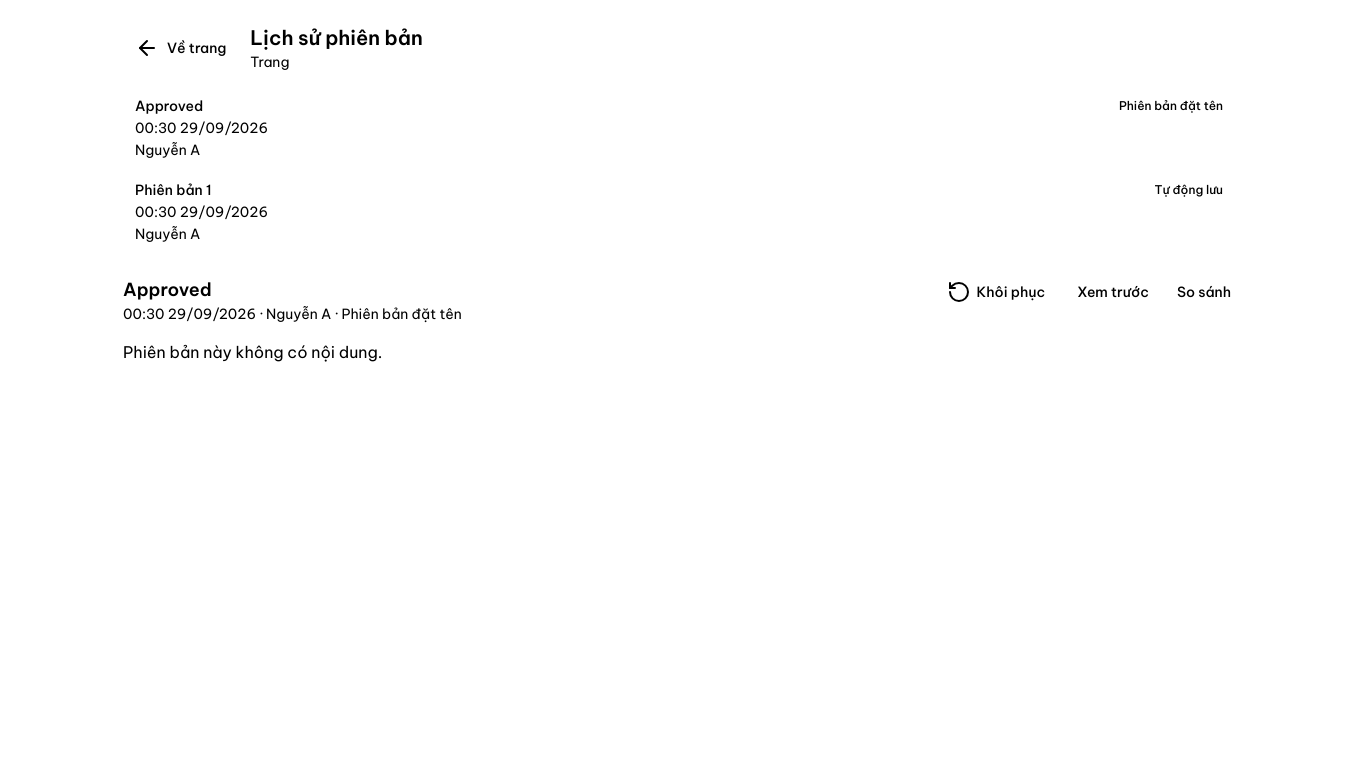
Test: restore from the history › keeps the dialog open and shows the translated error (viewer refused by collab)
What coordinates should you click on to do the following:
click the button "Khôi phục"
I would click on:
 (996, 292)
Its box is [935,276,1057,308].
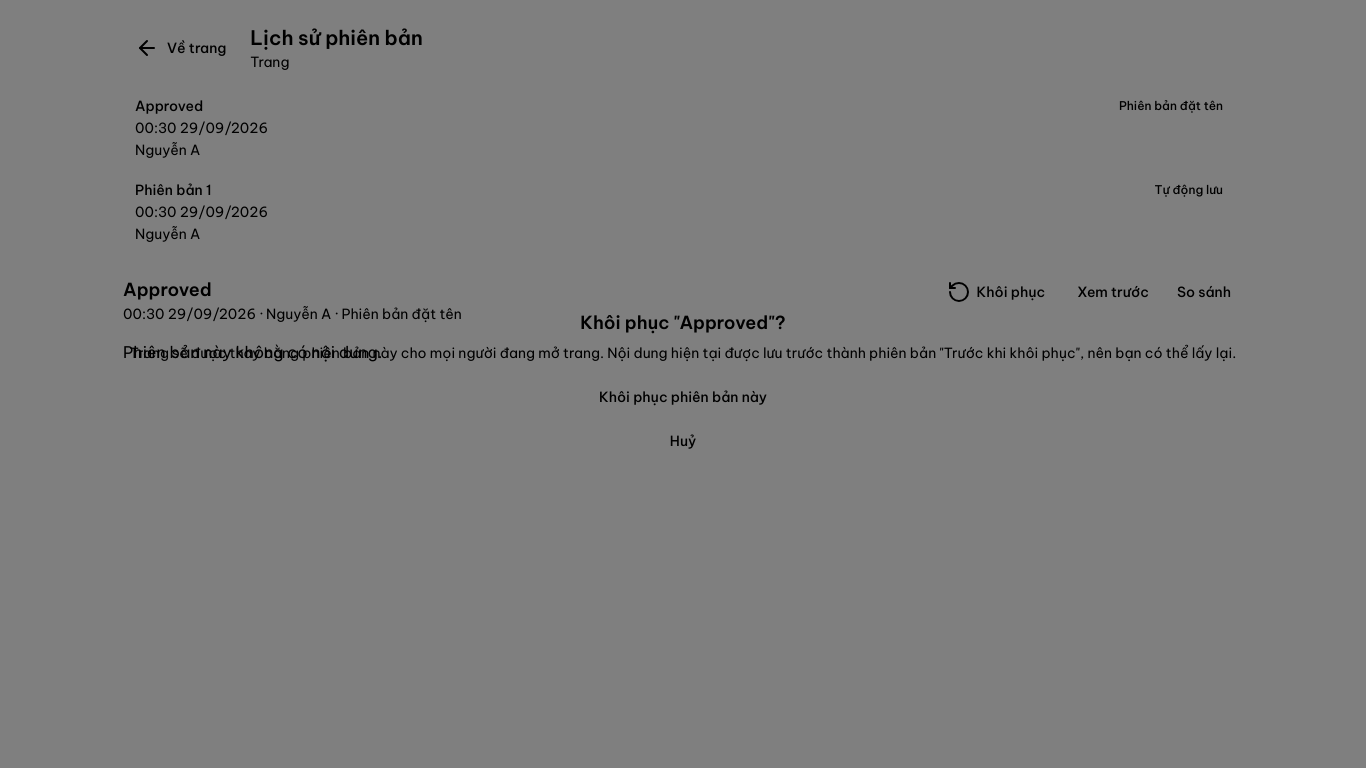
What coordinates should you click on to do the following:
click the button "Khôi phục phiên bản này"
I would click on:
 (683, 397)
Its box is [40,379,1326,415].
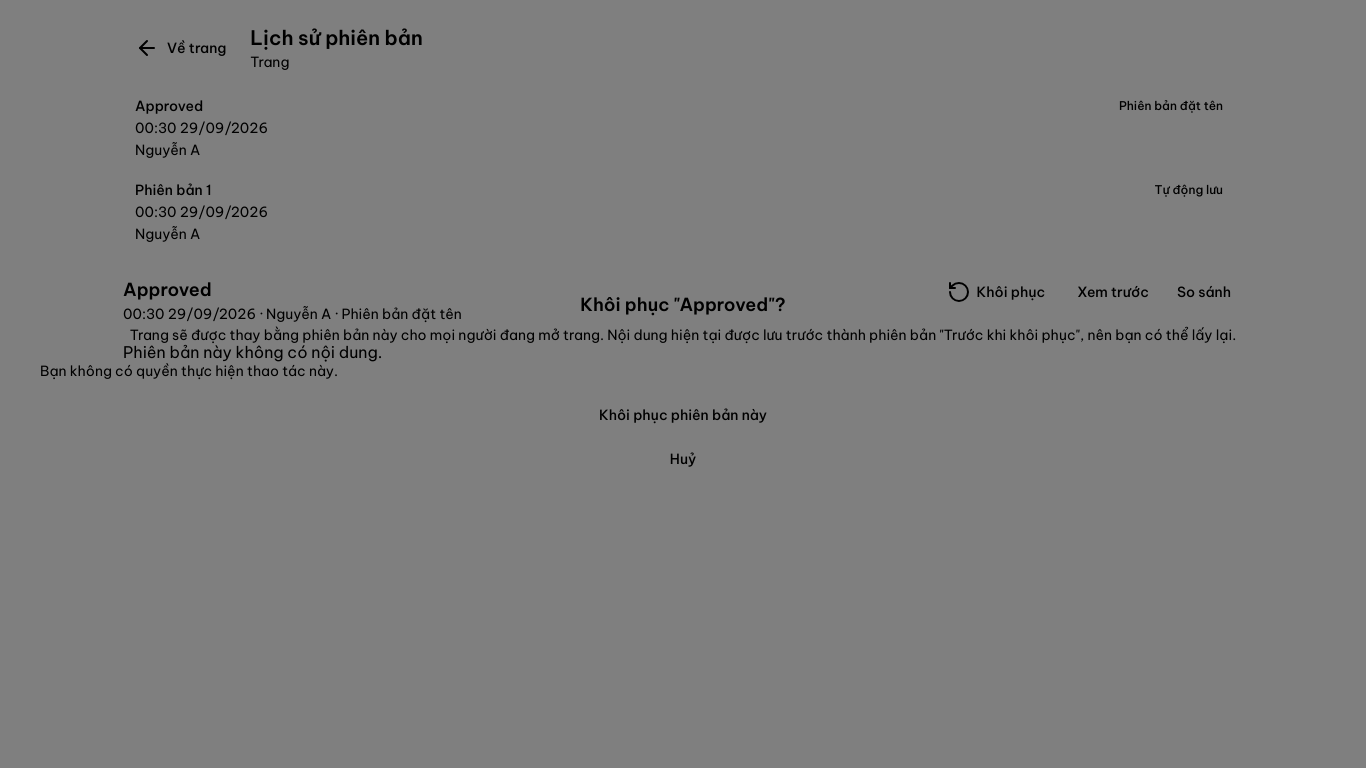
Result: the message reads "Bạn không có quyền thực hiện thao tác này." at [40,362,338,380]
